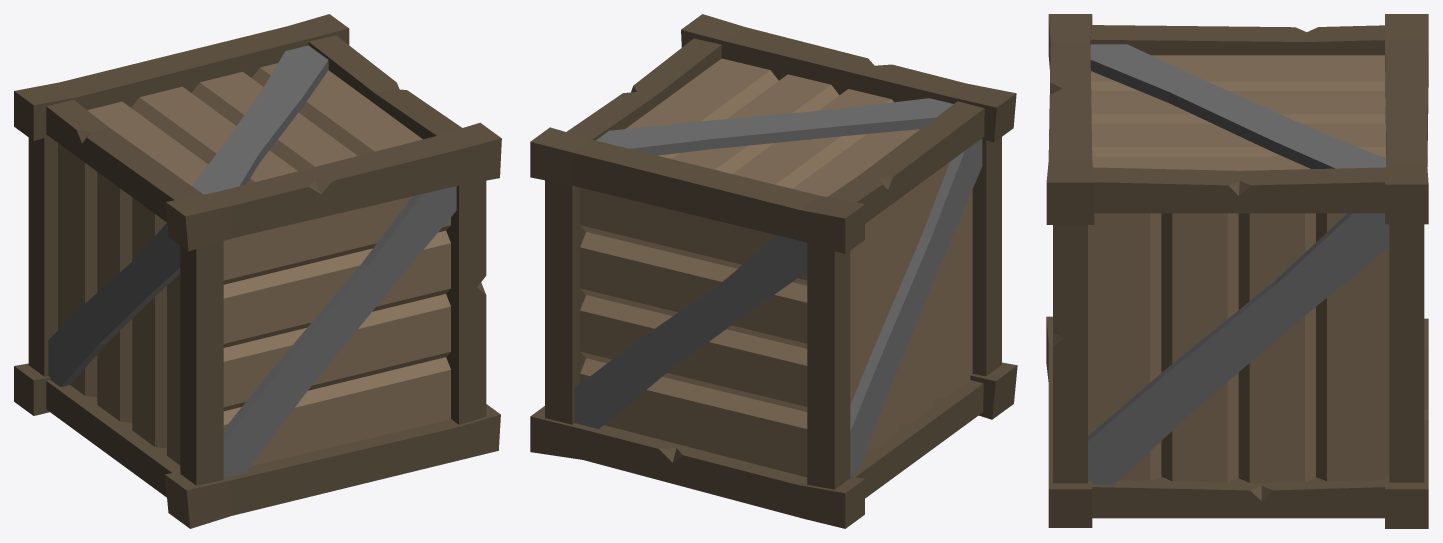
Rendered from wooden_box.FBX.
The picture shows the model from 3 angles, left to right: view 1: azimuth 30°, elevation 25°; view 2: azimuth 150°, elevation 25°; view 3: azimuth 270°, elevation 25°; orthographic projection. The views are drawn at different scales.
Visible parts, largest first — view 1: wooden_box; view 2: wooden_box; view 3: wooden_box.
Part boxes in pixels (x1,y1,x2,y2): wooden_box: (14,14,501,528); wooden_box: (530,14,1017,528); wooden_box: (1046,14,1428,528).
Bounding box in the file's own units: 0.9244 × 0.8803 × 0.8755.
